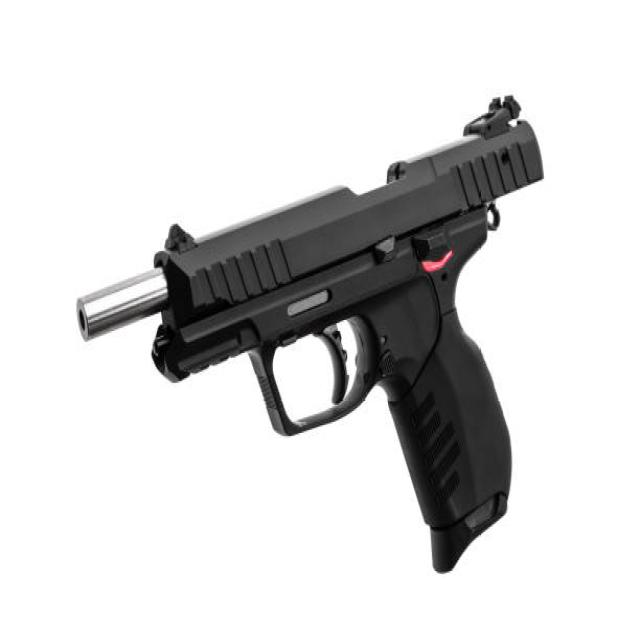pistol: (69, 95, 546, 588)
